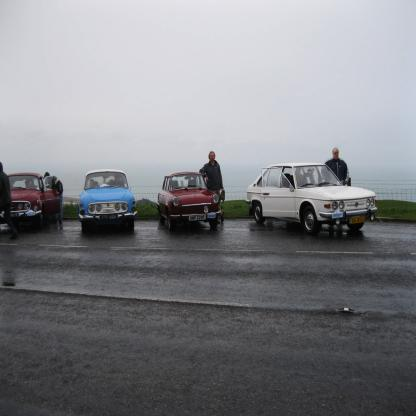Car: (245, 158, 379, 237), (156, 171, 224, 233), (78, 168, 138, 230), (0, 172, 60, 228)
